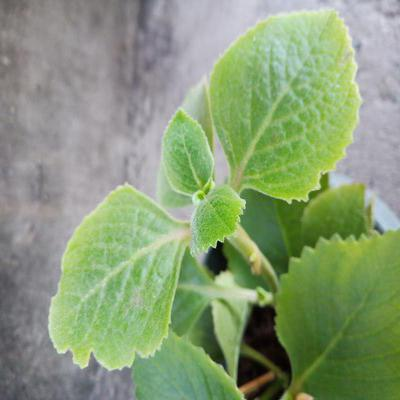Oregano: (48, 61, 400, 397)
